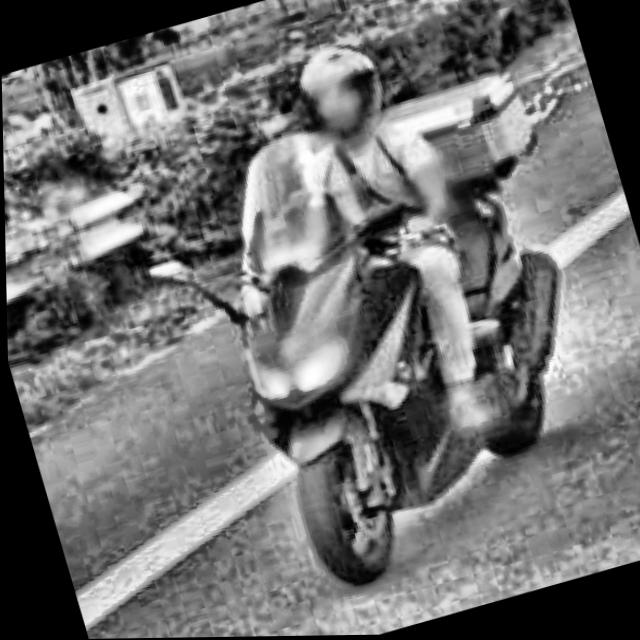motorcycle: (113, 50, 640, 620)
